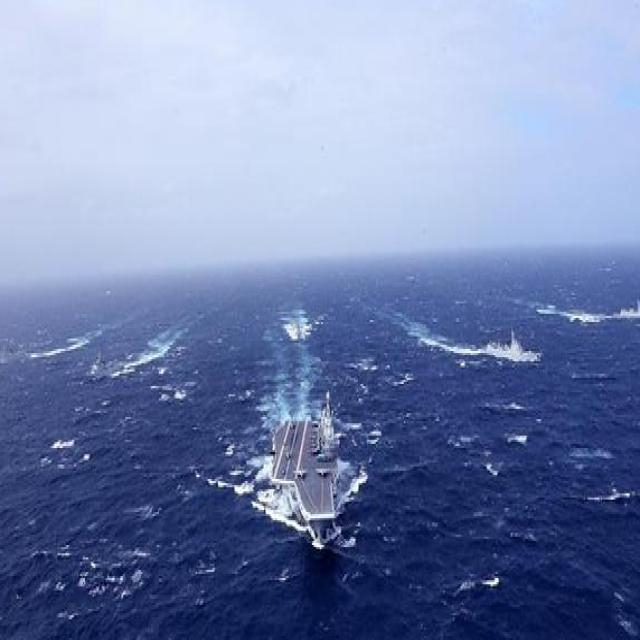navalvessels: (267, 394, 342, 534), (482, 323, 541, 365), (82, 340, 131, 384), (0, 332, 29, 368), (285, 308, 312, 346), (613, 291, 640, 320)
